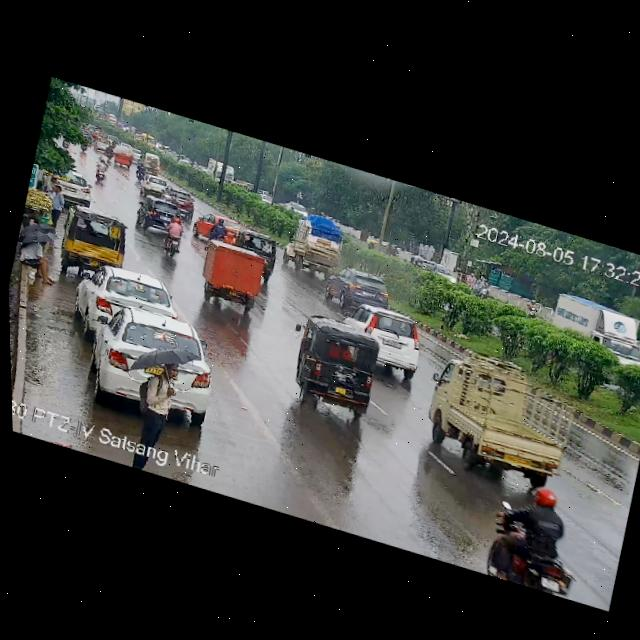car: (426, 346, 576, 488), (70, 295, 221, 429), (292, 319, 387, 422), (76, 257, 181, 339), (340, 300, 432, 379), (195, 239, 275, 319), (57, 203, 133, 279), (325, 265, 398, 316), (136, 194, 183, 240), (48, 164, 97, 207), (194, 208, 243, 250), (236, 225, 281, 262), (161, 185, 199, 217), (134, 171, 170, 196), (110, 144, 136, 171), (138, 150, 164, 175), (286, 200, 311, 220)
motorcycle: (486, 479, 587, 600), (156, 212, 188, 261), (91, 156, 113, 184), (521, 298, 540, 321)
person: (130, 354, 189, 448), (14, 235, 62, 285), (43, 181, 70, 233)
truck: (540, 289, 640, 368), (286, 214, 354, 280), (204, 155, 237, 186)
